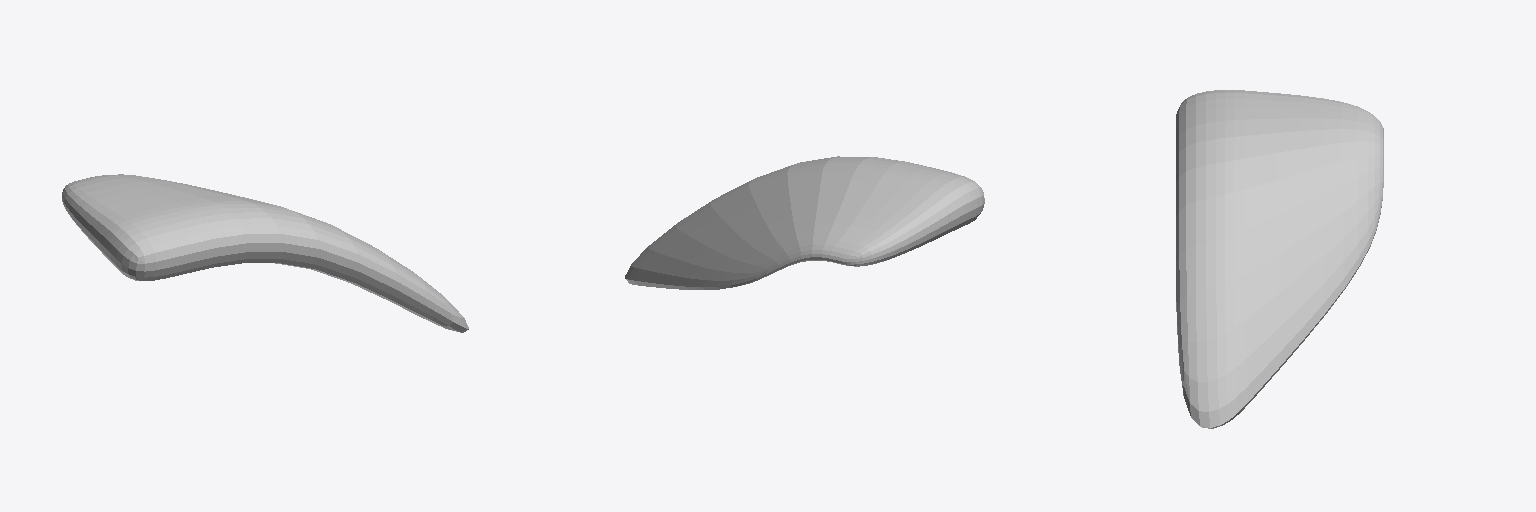
Rendered from Gallina_Ala.obj.
3 renders of one model, left to right at view 1: azimuth 30°, elevation 25°; view 2: azimuth 150°, elevation 25°; view 3: azimuth 270°, elevation 25°, orthographic.
Parts seen in each view (by area): view 1: Ala.002_Cube.006; view 2: Ala.002_Cube.006; view 3: Ala.002_Cube.006.
Boxes of the visible parts, x1,y1,x2,y2 form: Ala.002_Cube.006: [62, 174, 468, 332]; Ala.002_Cube.006: [625, 156, 984, 289]; Ala.002_Cube.006: [1176, 90, 1383, 428].
Size of the model in its own units: 0.1641 by 0.081 by 0.0848.